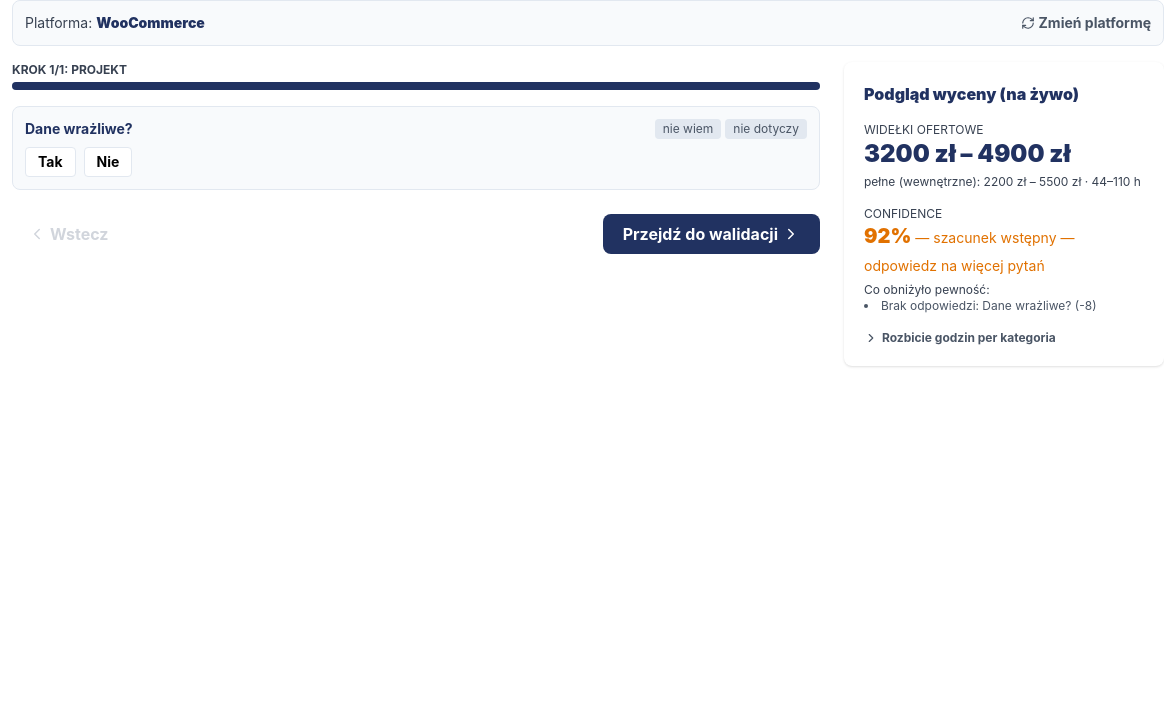
Test: E2E f1c — finalize → ekran wyniku z read-backu › walidacja → Finalizuj → POST finalize → ResultScreen pokazuje snapshot z serwera
The width and height of the screenshot is (1164, 720).
What coordinates should you click on to do the following:
click the button "Nie"
I would click on:
 (108, 162)
Its box is [84,147,132,177].
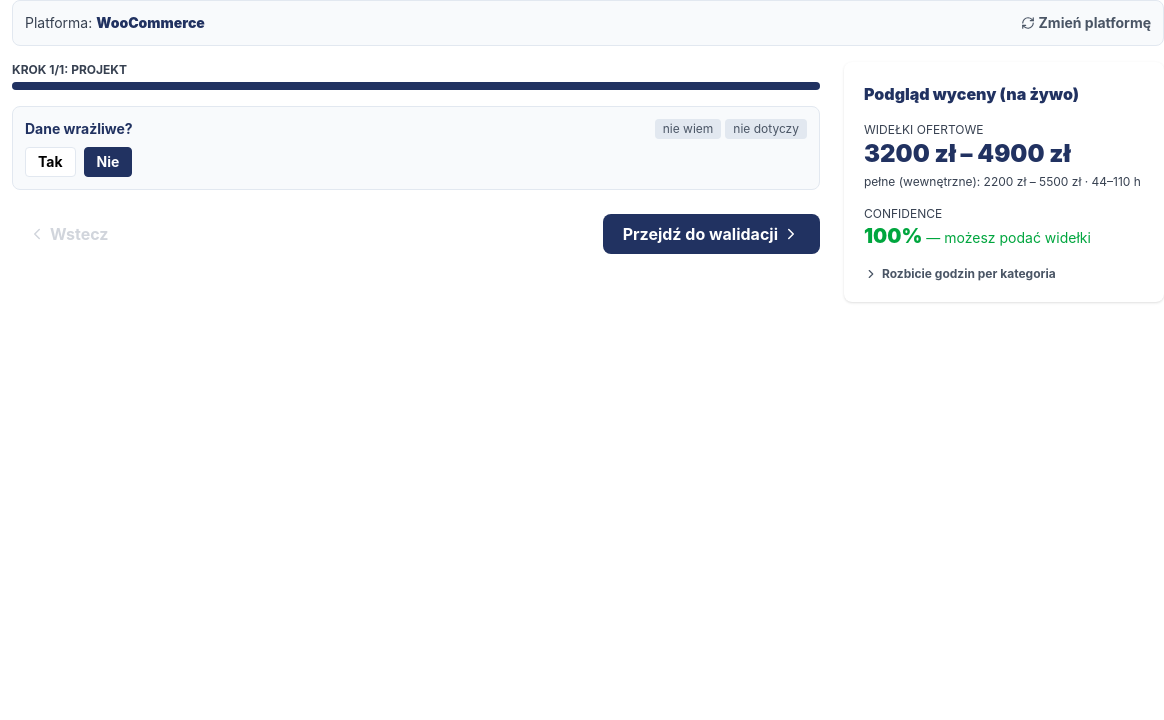
What coordinates should you click on to do the following:
click the button "Przejdź do walidacji"
I would click on:
 (711, 234)
Its box is [603,214,820,254].
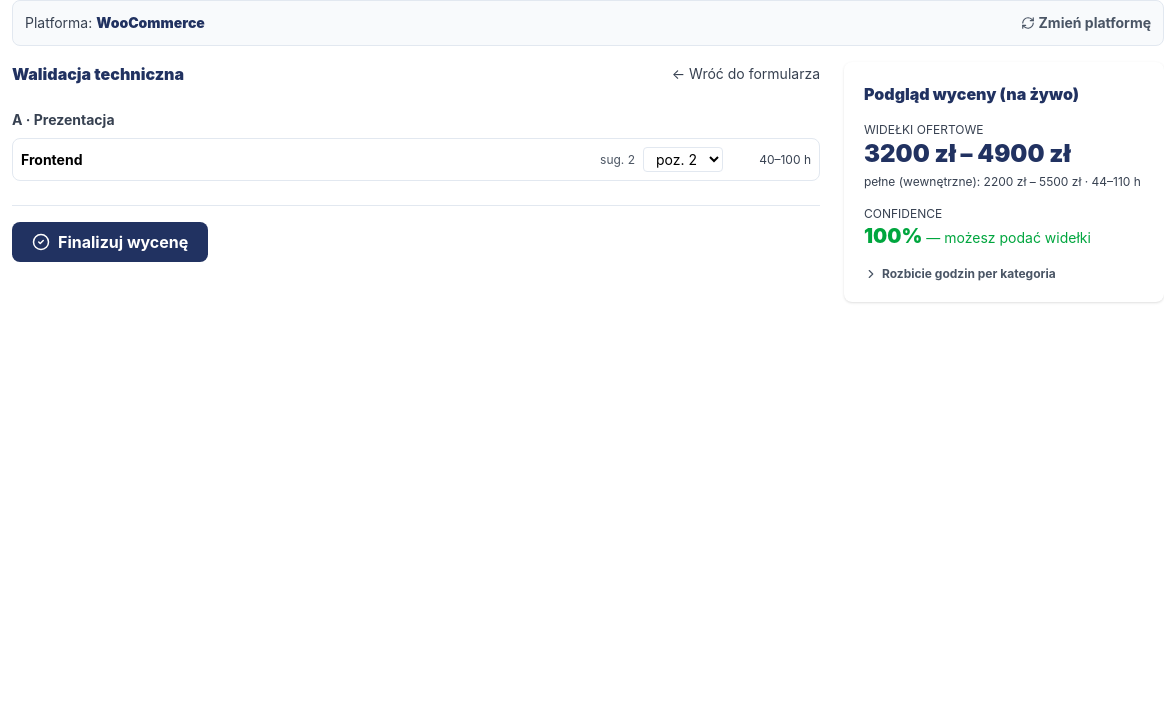
What coordinates should you click on to do the following:
click the button "Finalizuj wycenę"
I would click on:
 (110, 242)
Its box is [12,222,208,262].
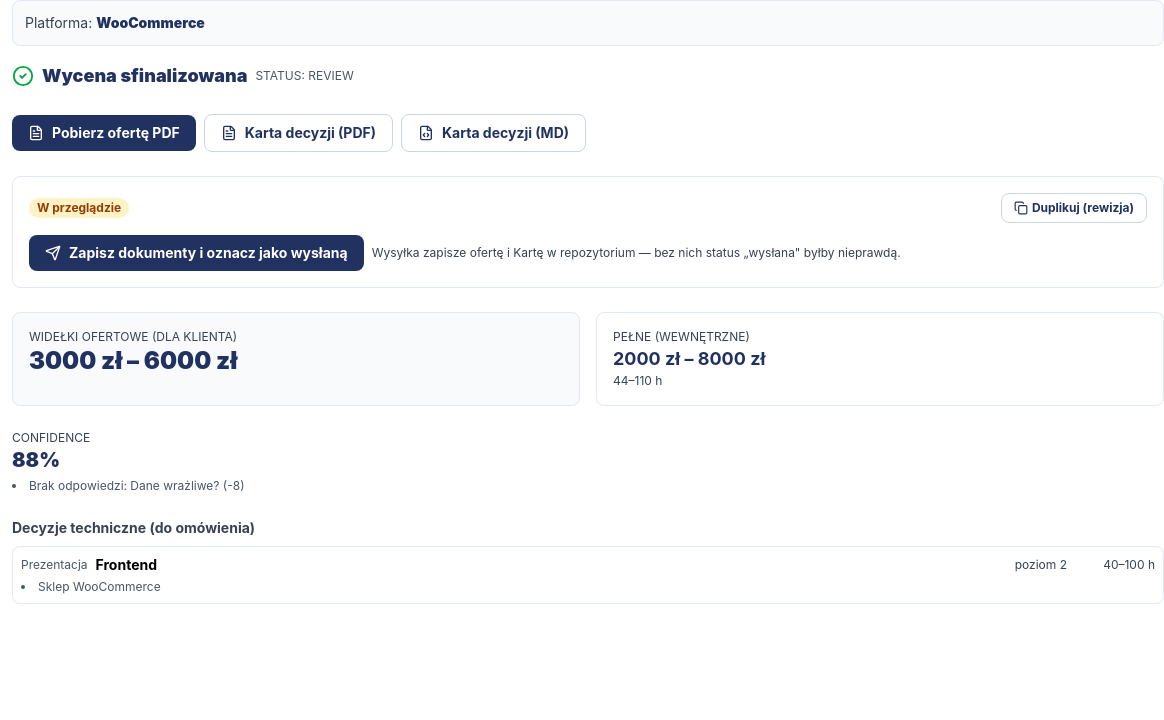
Result: the text "Frontend" is shown at [96,556,157,573]
Result: the heading "Wycena sfinalizowana" is shown at [42,62,247,90]
Result: the text "3000 zł – 6000 zł" is shown at [29,346,237,375]
